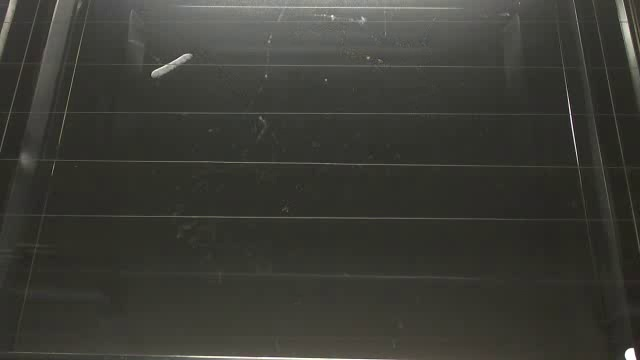Alfa: (148, 51, 195, 81)
